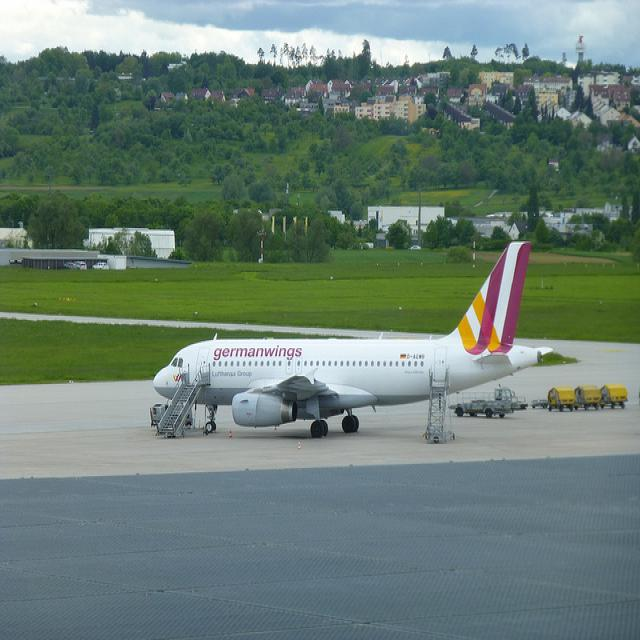Vehicle: (448, 388, 515, 418)
